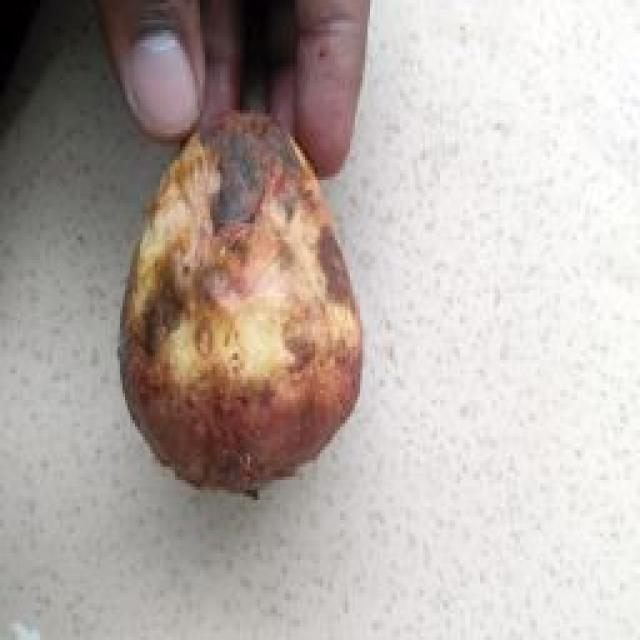Bad_Guava: (120, 113, 361, 489)
